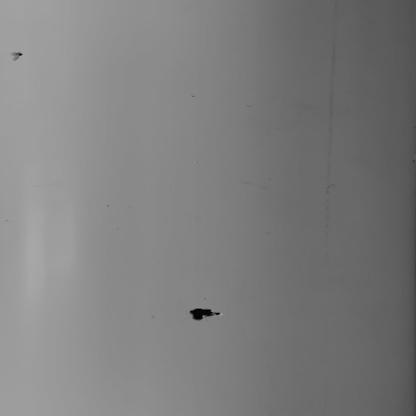kongdong: (188, 302, 232, 327), (9, 45, 28, 68)
